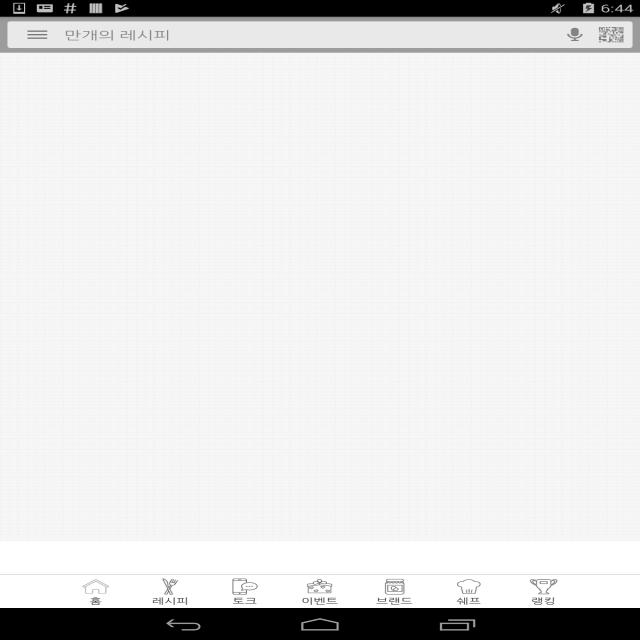ImageView: (560, 22, 590, 47), (156, 578, 184, 595), (231, 578, 259, 595), (380, 578, 408, 595), (455, 578, 483, 595), (82, 578, 109, 595), (306, 578, 333, 595), (530, 578, 557, 595), (598, 27, 624, 42), (27, 28, 48, 41)
TextView: (64, 27, 560, 42), (60, 595, 131, 608), (284, 595, 355, 608), (508, 595, 579, 608), (135, 595, 205, 608), (210, 595, 280, 608), (359, 595, 429, 608), (434, 595, 504, 608)
